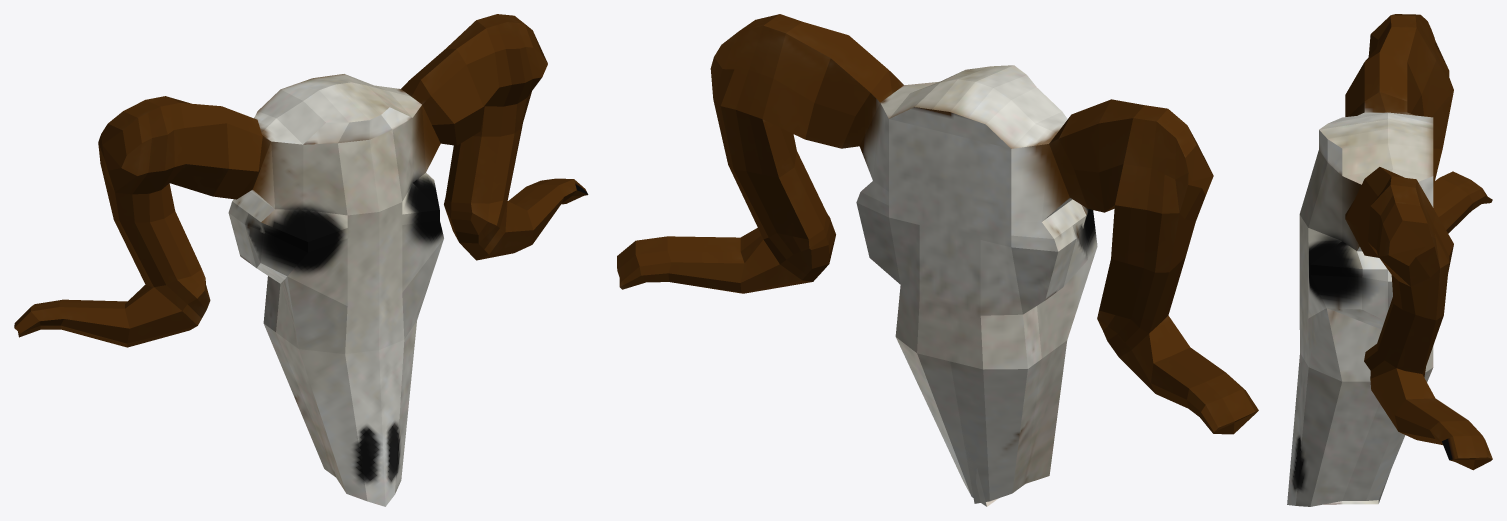
File: GoatHead.fbx
3 views of the same model, side by side, from view 1: azimuth 30°, elevation 25°; view 2: azimuth 150°, elevation 25°; view 3: azimuth 270°, elevation 25° (orthographic). The views are drawn at different scales.
Visible parts, largest first — view 1: Cube; view 2: Cube; view 3: Cube.
Boxes of the visible parts, x1,y1,x2,y2 form: Cube: [14, 14, 588, 506]; Cube: [617, 14, 1258, 506]; Cube: [1287, 14, 1492, 506].
Bounding box in the file's own units: 512 × 347 × 160.
